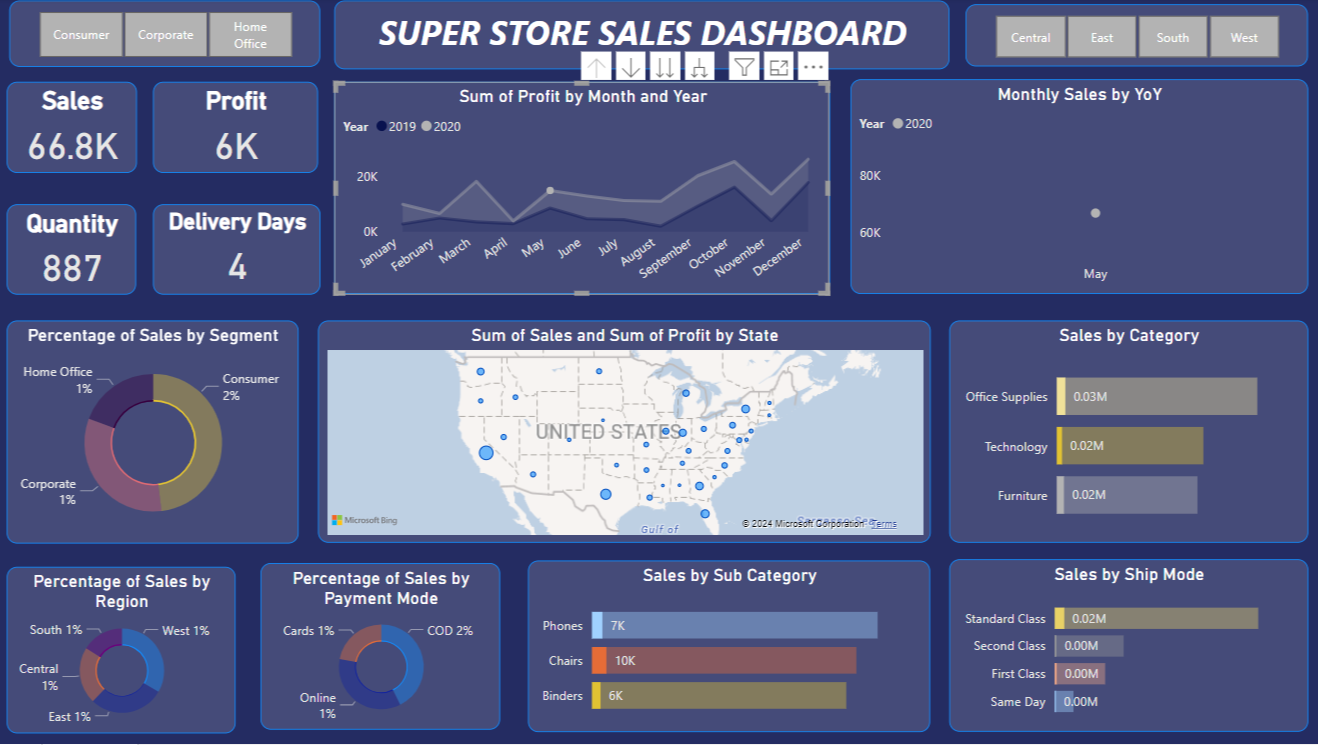

What the dashboard file says about the page in this screenshot:
{"tool":"powerbi","page":{"name":"Page 1","canvas":[1280,720],"ordinal":0},"visuals":[{"type":"clusteredBarChart","title":"Sales by Category","fields":{"Category":["SuperStore_Sales_Dataset.Category"],"Y":["Sum(SuperStore_Sales_Dataset.Sales)"]},"box":[920.2,311.2,346.1,214.7],"z":0},{"type":"clusteredBarChart","title":"Sales by Sub Category","fields":{"Category":["SuperStore_Sales_Dataset.Sub-Category"],"Y":["Sum(SuperStore_Sales_Dataset.Sales)"]},"box":[513.8,542.7,388.3,165.2],"z":1000},{"type":"clusteredBarChart","title":"Sales by Ship Mode","fields":{"Category":["SuperStore_Sales_Dataset.Ship Mode"],"Y":["Sum(SuperStore_Sales_Dataset.Sales)"]},"box":[920,541.2,346.2,166.2],"z":2000},{"type":"stackedAreaChart","title":"Monthly Sales by YoY","fields":{"Y":["Sum(SuperStore_Sales_Dataset.Sales)"],"Category":["SuperStore_Sales_Dataset.Order Date.Variation.Date Hierarchy.Month","SuperStore_Sales_Dataset.Order Date.Variation.Date Hierarchy.Day"],"Series":["SuperStore_Sales_Dataset.Order Date.Variation.Date Hierarchy.Year"]},"box":[825,78.8,441.2,207.5],"z":3000},{"type":"stackedAreaChart","fields":{"Category":["SuperStore_Sales_Dataset.Order Date.Variation.Date Hierarchy.Month","SuperStore_Sales_Dataset.Order Date.Variation.Date Hierarchy.Day"],"Series":["SuperStore_Sales_Dataset.Order Date.Variation.Date Hierarchy.Year"],"Y":["Sum(SuperStore_Sales_Dataset.Profit)"]},"box":[326.2,81.2,478.8,205],"z":4000},{"type":"map","fields":{"Category":["SuperStore_Sales_Dataset.State"],"Size":["Sum(SuperStore_Sales_Dataset.Sales)"]},"box":[311.2,311.2,591,214.7],"z":5000},{"type":"donutChart","title":"Percentage of Sales by Segment","fields":{"Category":["SuperStore_Sales_Dataset.Segment"],"Y":["Sum(SuperStore_Sales_Dataset.Sales)"]},"box":[11.2,311.2,281.2,215],"z":6000},{"type":"donutChart","title":"Percentage of Sales by Payment Mode","fields":{"Category":["SuperStore_Sales_Dataset.Payment Mode"],"Y":["Sum(SuperStore_Sales_Dataset.Sales)"]},"box":[255.7,545.1,231.6,160.4],"z":7000},{"type":"slicer","fields":{"Values":["SuperStore_Sales_Dataset.Region"]},"box":[936.2,6.2,330,60],"z":8000},{"type":"textbox","box":[326.2,2.5,593.8,66.2],"z":9000},{"type":"card","title":"Sales","fields":{"Values":["Sum(SuperStore_Sales_Dataset.Sales)"]},"box":[11.2,81.2,125,87.5],"z":10000},{"type":"card","title":"Quantity","fields":{"Values":["Sum(SuperStore_Sales_Dataset.Quantity)"]},"box":[11.2,198.8,125,87.5],"z":11000},{"type":"card","title":"Profit","fields":{"Values":["Sum(SuperStore_Sales_Dataset.Profit)"]},"box":[161.2,81.2,152.5,87.5],"z":12000},{"type":"card","title":"Delivery Days","fields":{"Values":["Avg(SuperStore_Sales_Dataset.AvgDelievery)"]},"box":[162.5,198.8,151.2,87.5],"z":13000},{"type":"donutChart","title":"Percentage of Sales by Region","fields":{"Category":["SuperStore_Sales_Dataset.Region"],"Y":["Sum(SuperStore_Sales_Dataset.Sales)"]},"box":[10.9,548.7,220.7,160.4],"z":14000},{"type":"slicer","fields":{"Values":["SuperStore_Sales_Dataset.Segment"]},"box":[11.2,2.5,300,63.8],"z":15000}]}

Visuals, with their boxes in screenshot pixels (x1, y1, x2, y2), scaled from the page's 1280x720 canvas onto the 1318x745 screenshot:
"Sales by Category" clusteredBarChart: [948, 322, 1304, 544]
"Sales by Sub Category" clusteredBarChart: [529, 562, 929, 732]
"Sales by Ship Mode" clusteredBarChart: [947, 560, 1304, 732]
"Monthly Sales by YoY" stackedAreaChart: [849, 82, 1304, 296]
stackedAreaChart - SuperStore_Sales_Dataset.Order Date.Variation.Date Hierarchy.Month x SuperStore_Sales_Dataset.Order Date.Variation.Date Hierarchy.Day: [336, 84, 829, 296]
map - SuperStore_Sales_Dataset.State x Sum(SuperStore_Sales_Dataset.Sales): [320, 322, 929, 544]
"Percentage of Sales by Segment" donutChart: [12, 322, 301, 544]
"Percentage of Sales by Payment Mode" donutChart: [263, 564, 502, 730]
slicer - SuperStore_Sales_Dataset.Region: [964, 6, 1304, 68]
textbox: [336, 3, 947, 71]
"Sales" card: [12, 84, 140, 175]
"Quantity" card: [12, 206, 140, 296]
"Profit" card: [166, 84, 323, 175]
"Delivery Days" card: [167, 206, 323, 296]
"Percentage of Sales by Region" donutChart: [11, 568, 238, 734]
slicer - SuperStore_Sales_Dataset.Segment: [12, 3, 320, 69]
